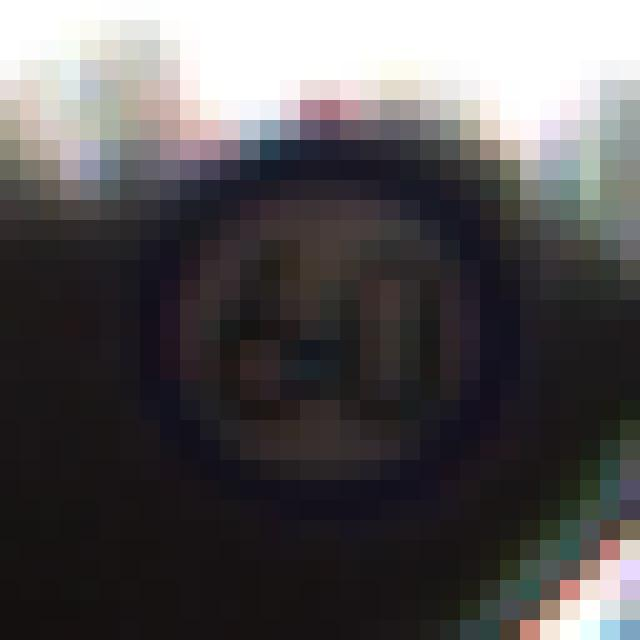SPEED-LIMIT-60: (136, 149, 516, 514)
